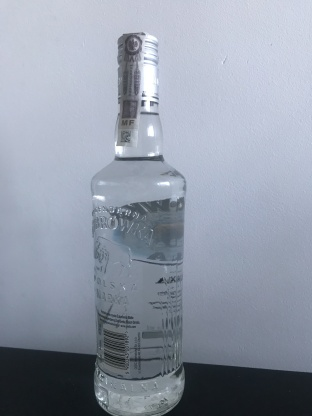nakretka: (114, 28, 162, 107)
